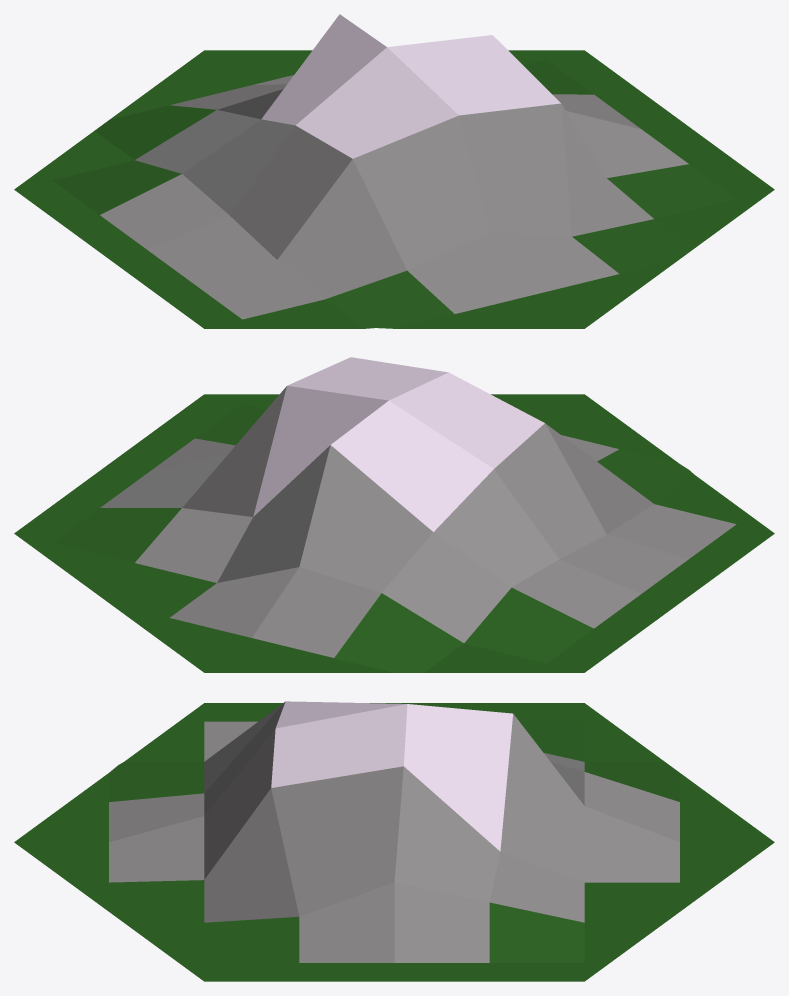
File: mountain.glb
3 views of the same model, one above another, from view 1: azimuth 30°, elevation 25°; view 2: azimuth 150°, elevation 25°; view 3: azimuth 270°, elevation 25° (orthographic).
Parts seen in each view (by area): view 1: Plane; view 2: Plane; view 3: Plane.
Part boxes in pixels (x1=…): Plane: x1=14, y1=14, x2=774, y2=328; Plane: x1=14, y1=357, x2=774, y2=672; Plane: x1=14, y1=701, x2=774, y2=981.
Bounding box in the file's own units: 1.73 × 0.4 × 2.
